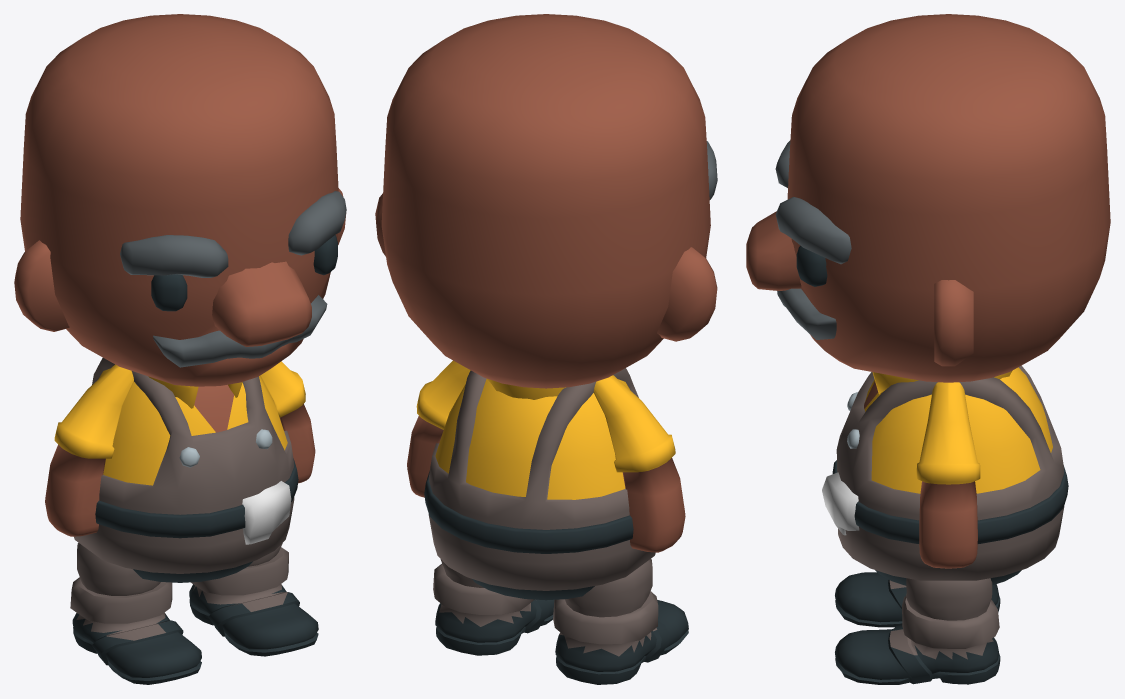
Rendered from character_tavernkeeper_full.gltf.
3 views of the same model, side by side, from view 1: azimuth 30°, elevation 25°; view 2: azimuth 150°, elevation 25°; view 3: azimuth 270°, elevation 25° (orthographic). The views are drawn at different scales.
Parts seen in each view (by area): view 1: character_tavernkeeperHead, character_tavernkeeper, character_tavernkeeperLegs, character_tavernkeeperArmRight, character_tavernkeeperArmLeft; view 2: character_tavernkeeperHead, character_tavernkeeper, character_tavernkeeperLegs, character_tavernkeeperArmRight, character_tavernkeeperArmLeft; view 3: character_tavernkeeperHead, character_tavernkeeper, character_tavernkeeperLegs, character_tavernkeeperArmLeft.
Boxes of the visible parts, x1,y1,x2,y2 form: character_tavernkeeperHead: [14, 14, 346, 386]; character_tavernkeeper: [74, 358, 298, 582]; character_tavernkeeperLegs: [70, 543, 318, 684]; character_tavernkeeperArmRight: [45, 364, 133, 536]; character_tavernkeeperArmLeft: [260, 361, 315, 483]; character_tavernkeeperHead: [375, 14, 717, 388]; character_tavernkeeper: [424, 368, 655, 600]; character_tavernkeeperLegs: [433, 559, 688, 684]; character_tavernkeeperArmRight: [593, 375, 685, 552]; character_tavernkeeperArmLeft: [407, 360, 470, 497]; character_tavernkeeperHead: [746, 14, 1110, 382]; character_tavernkeeper: [822, 365, 1068, 585]; character_tavernkeeperLegs: [835, 572, 1000, 684]; character_tavernkeeperArmLeft: [916, 382, 980, 568].
Bounding box in the file's own units: 1.18 × 2.04 × 1.12.
